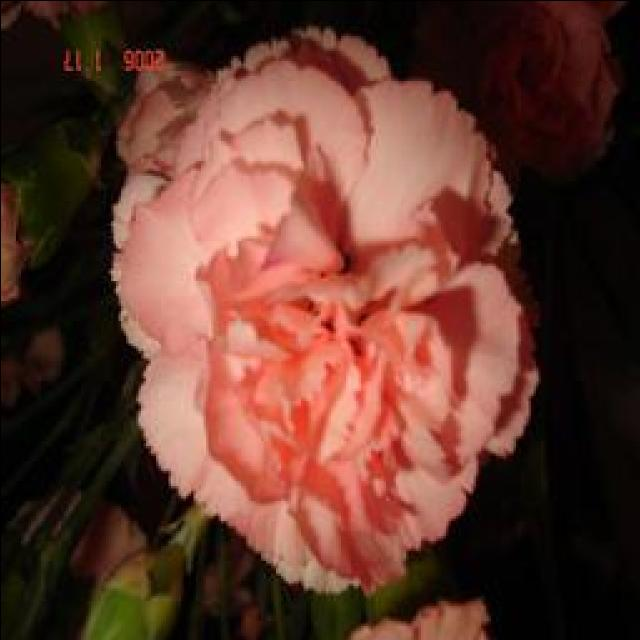carnation: (55, 29, 542, 606)
